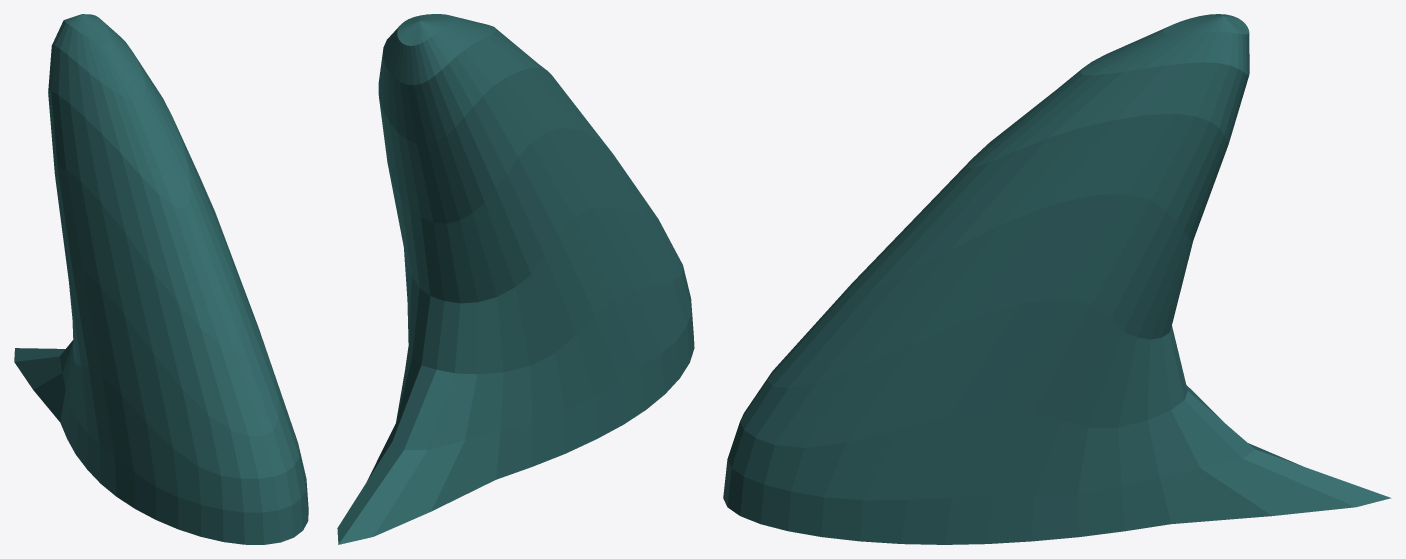
File: plavnik.fbx
The picture shows the model from 3 angles, left to right: view 1: azimuth 30°, elevation 25°; view 2: azimuth 150°, elevation 25°; view 3: azimuth 270°, elevation 25°; orthographic projection. The views are drawn at different scales.
Parts seen in each view (by area): view 1: Sphere; view 2: Sphere; view 3: Sphere.
Boxes of the visible parts, box(x1,y1,x2,y2) form: Sphere: box(14, 14, 308, 544); Sphere: box(337, 14, 694, 544); Sphere: box(723, 14, 1391, 544).
Size of the model in its own units: 300 by 721 by 906.
